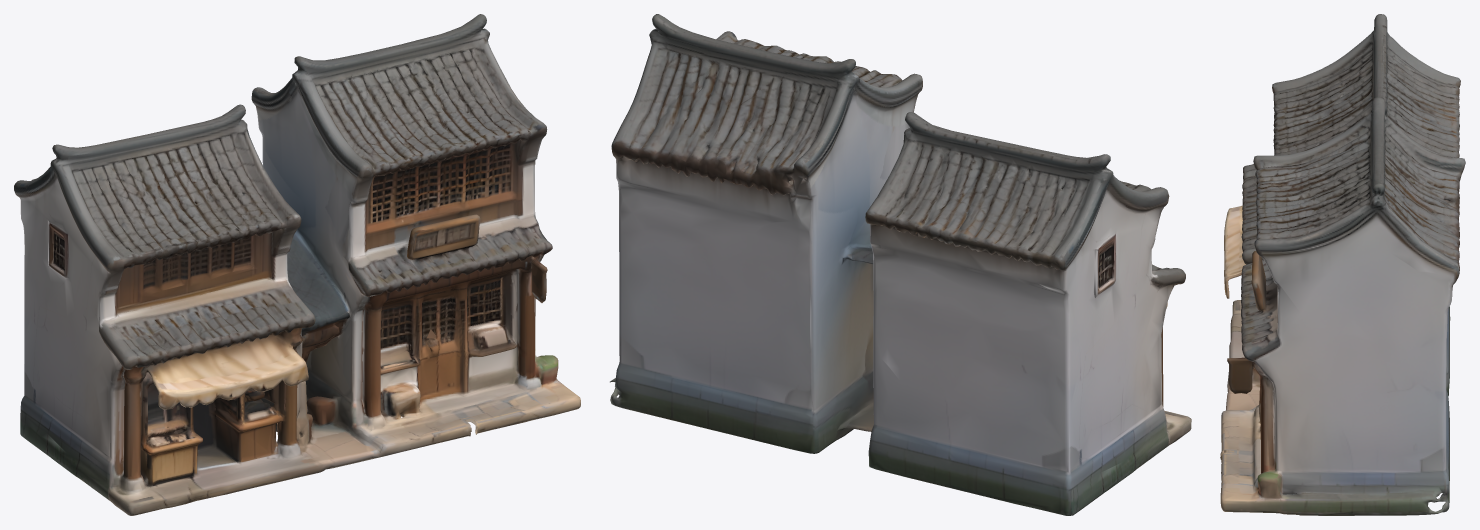
3 renders of one model, left to right at view 1: azimuth 30°, elevation 25°; view 2: azimuth 150°, elevation 25°; view 3: azimuth 270°, elevation 25°, orthographic. The views are drawn at different scales.
Visible parts, largest first — view 1: material.001; view 2: material.001; view 3: material.001.
Part boxes in pixels (x1,y1,x2,y2): material.001: (14,14,580,515); material.001: (610,14,1191,515); material.001: (1220,14,1465,515).
Size of the model in its own units: 0.9145 by 0.6753 by 0.4586.
1 material, 1 textured.
